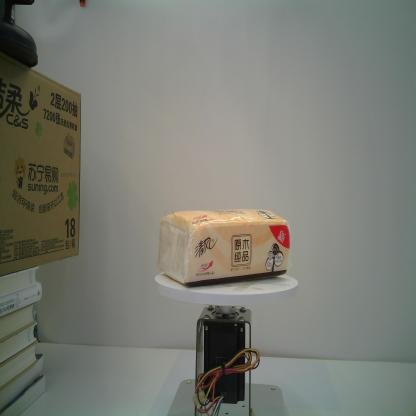Tissue: (157, 207, 290, 288)
